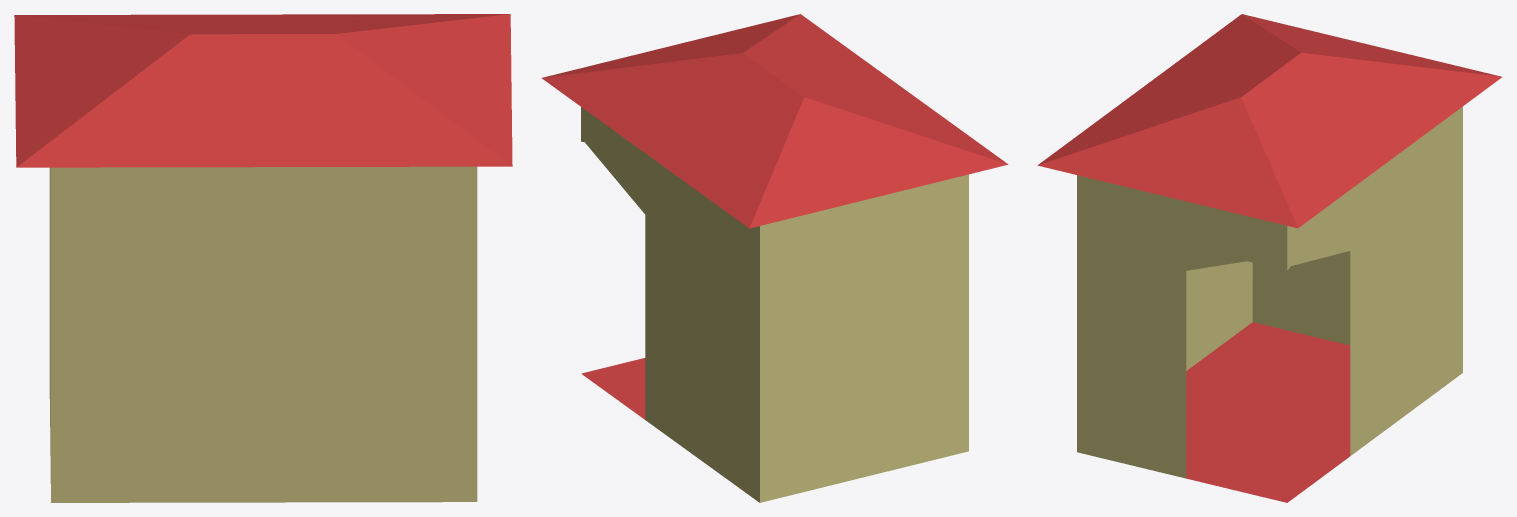
3 renders of one model, left to right at view 1: azimuth 30°, elevation 25°; view 2: azimuth 150°, elevation 25°; view 3: azimuth 270°, elevation 25°, orthographic. The views are drawn at different scales.
Parts seen in each view (by area): view 1: group_5, group_3, group_4; view 2: group_5, group_3, group_4, group_6; view 3: group_5, group_3, group_6, group_4.
Part boxes in pixels (<box>): group_5: <box>49,18,477,502</box>; group_3: <box>15,14,512,167</box>; group_4: <box>14,14,512,167</box>; group_5: <box>581,107,968,502</box>; group_3: <box>542,21,968,228</box>; group_4: <box>542,14,1008,228</box>; group_6: <box>581,358,645,419</box>; group_5: <box>1077,106,1462,478</box>; group_3: <box>1044,21,1501,228</box>; group_6: <box>1186,322,1350,502</box>; group_4: <box>1037,14,1500,227</box>.
Size of the model in its own units: 17.46 by 16.02 by 12.83.
